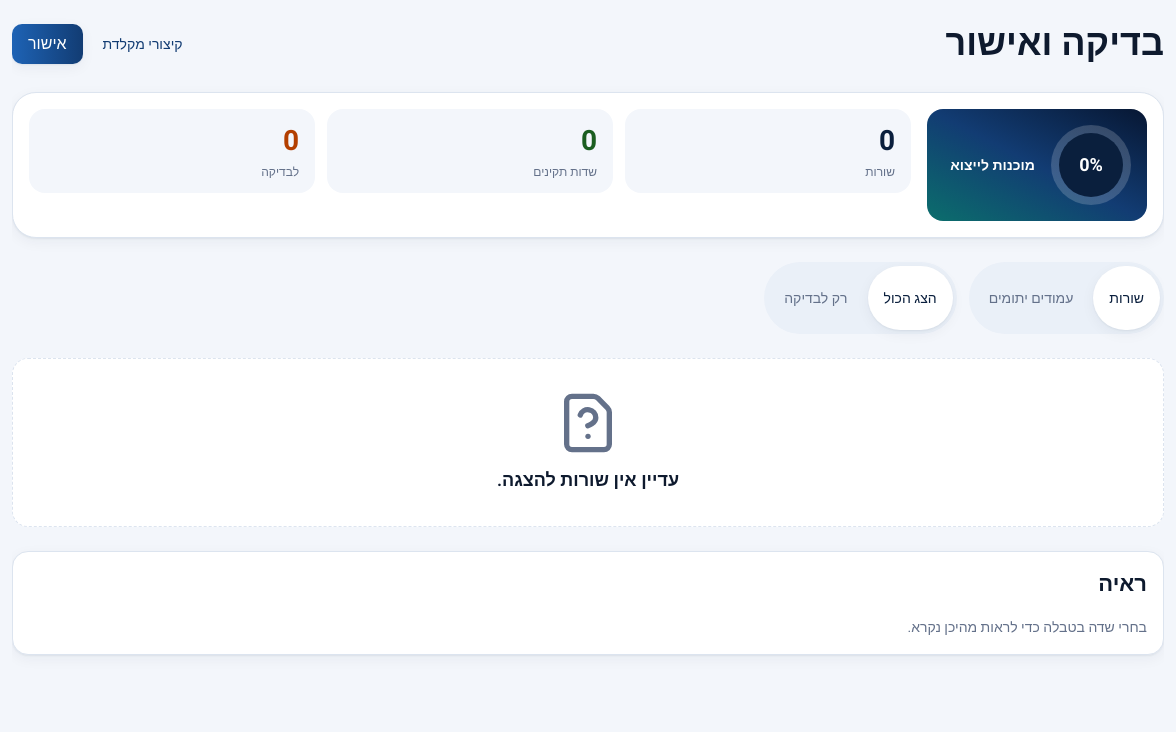
Test: review workspace › orphans_tab_lists_unattached_pages
The width and height of the screenshot is (1176, 732).
What coordinates should you click on to do the following:
click the button "עמודים יתומים"
I would click on:
 (1031, 298)
Its box is [973,266,1089,330].
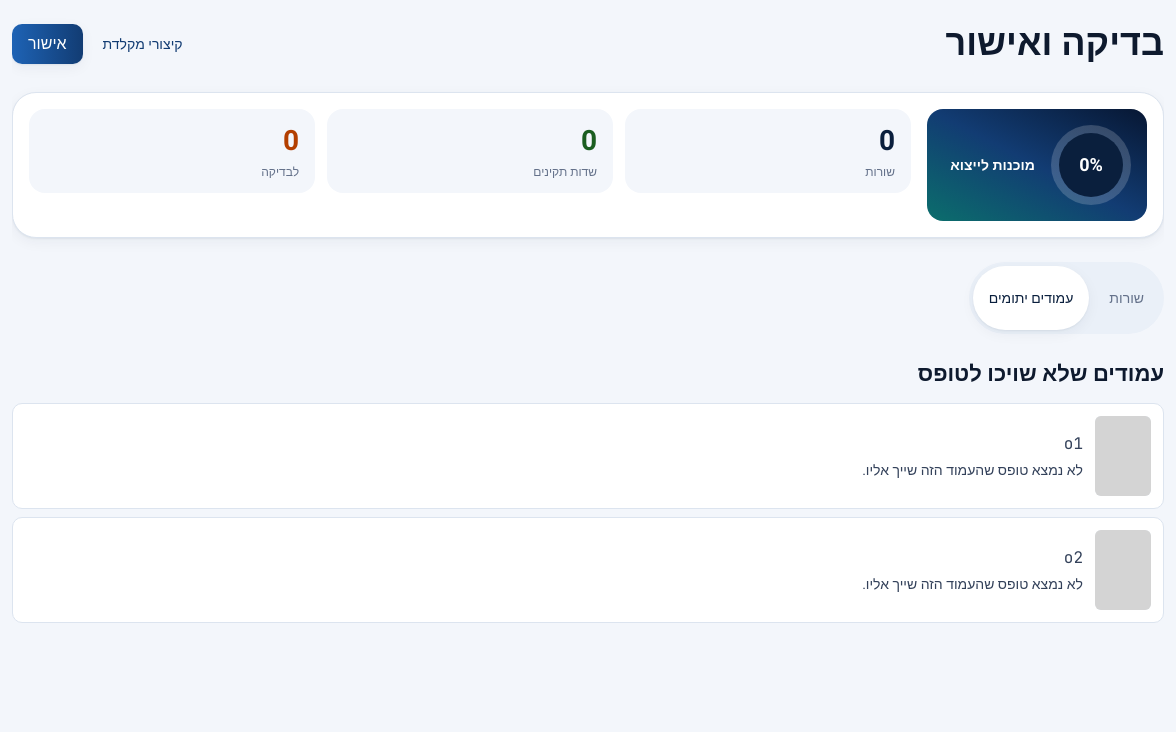
Expected: the number of list items is 2, [12,403,1164,509]; [12,517,1164,623]
Expected: the text "לא נמצא טופס שהעמוד הזה שייך אליו." is shown 2 times, [862,460,1083,480]; [862,574,1083,594]
